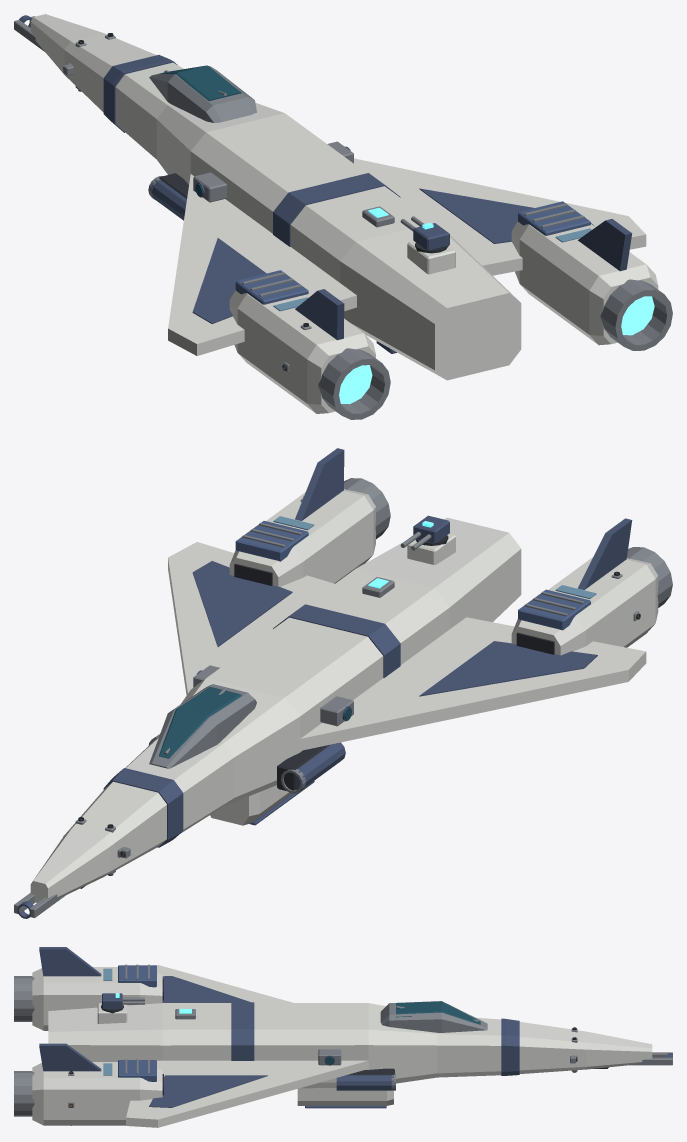
Rendered from interceptor_t3.glb.
The picture shows the model from 3 angles, top to bottom: view 1: azimuth 30°, elevation 25°; view 2: azimuth 150°, elevation 25°; view 3: azimuth 270°, elevation 25°; orthographic projection. The views are drawn at different scales.
Visible parts, largest first — view 1: FleetHull, mesh_pd_yaw_1; view 2: FleetHull; view 3: FleetHull, mesh_pd_yaw_1.
Boxes of the visible parts, <box> form: FleetHull: <box>14,14,672,419</box>; mesh_pd_yaw_1: <box>413,223,449,251</box>; FleetHull: <box>14,448,672,918</box>; FleetHull: <box>14,947,672,1127</box>; mesh_pd_yaw_1: <box>102,993,122,1009</box>.
Size of the model in its own units: 16 by 5.16 by 28.8.
